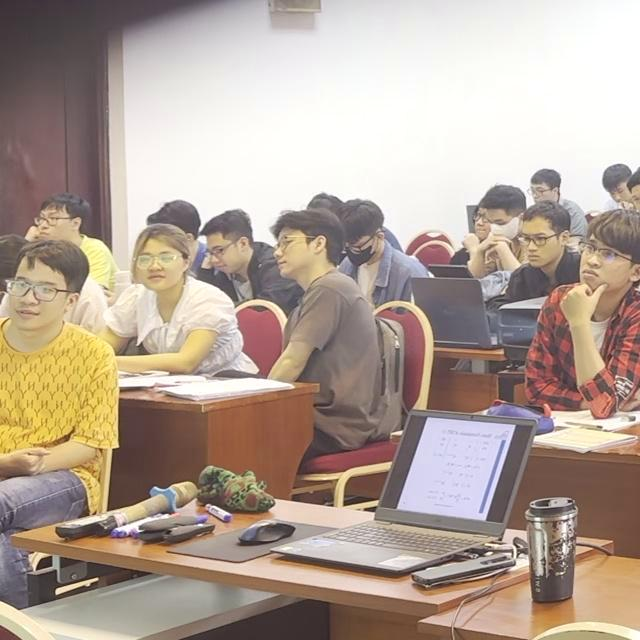Looking away: (272, 223, 314, 278), (522, 215, 565, 268), (206, 228, 253, 273), (347, 226, 384, 267), (487, 202, 519, 240), (528, 177, 551, 202), (608, 178, 629, 205)
Looking forward: (7, 254, 64, 332), (578, 230, 633, 294), (137, 239, 186, 290), (33, 205, 81, 242), (74, 224, 75, 225)
